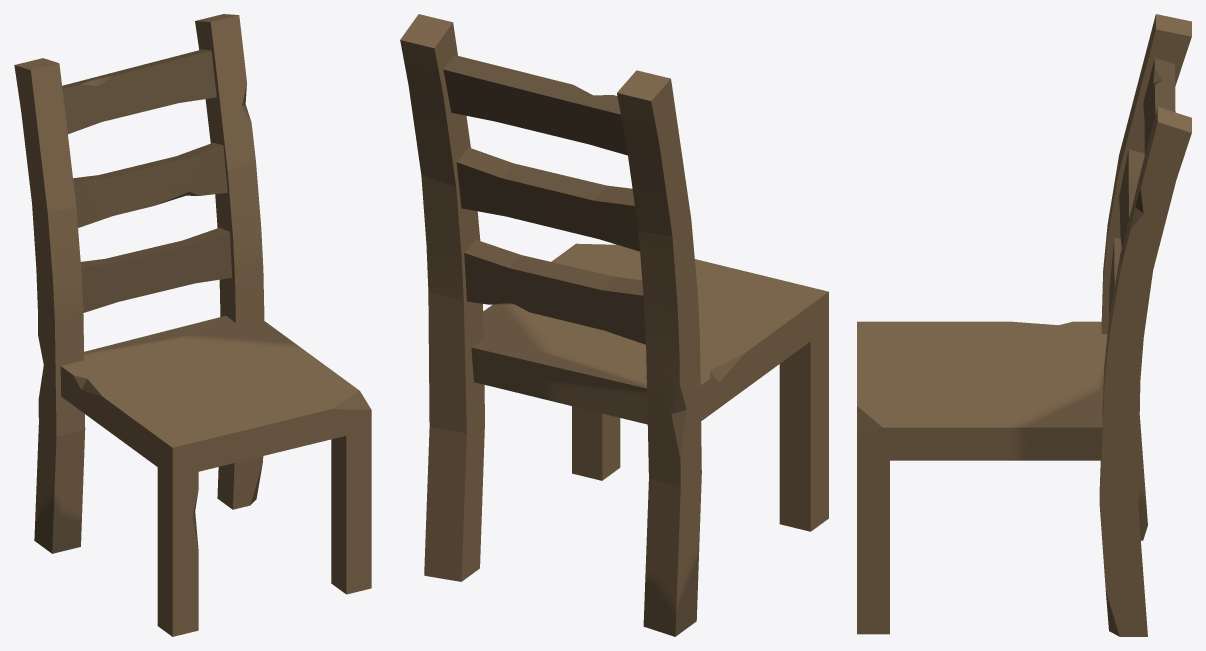
File: SM_Gen_Prop_Chair_01.obj
The picture shows the model from 3 angles, left to right: view 1: azimuth 30°, elevation 25°; view 2: azimuth 150°, elevation 25°; view 3: azimuth 270°, elevation 25°; orthographic projection. The views are drawn at different scales.
Parts seen in each view (by area): view 1: SM_Gen_Prop_Chair_01_0; view 2: SM_Gen_Prop_Chair_01_0; view 3: SM_Gen_Prop_Chair_01_0.
Part boxes in pixels (bbox=[...]): SM_Gen_Prop_Chair_01_0: bbox=[14, 14, 371, 636]; SM_Gen_Prop_Chair_01_0: bbox=[400, 14, 828, 636]; SM_Gen_Prop_Chair_01_0: bbox=[857, 14, 1191, 636].
Bounding box in the file's own units: 0.5027 × 1.08 × 0.6367.
Materials: 1 (1 with a texture image).
